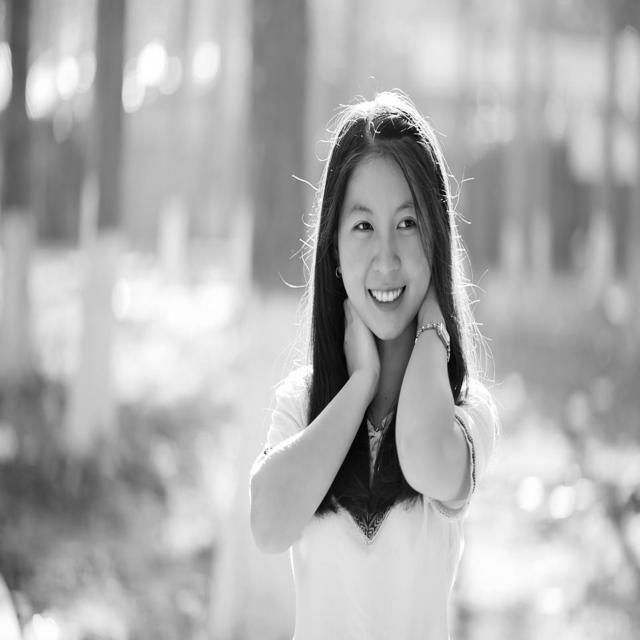Happiness: (338, 157, 432, 340)
